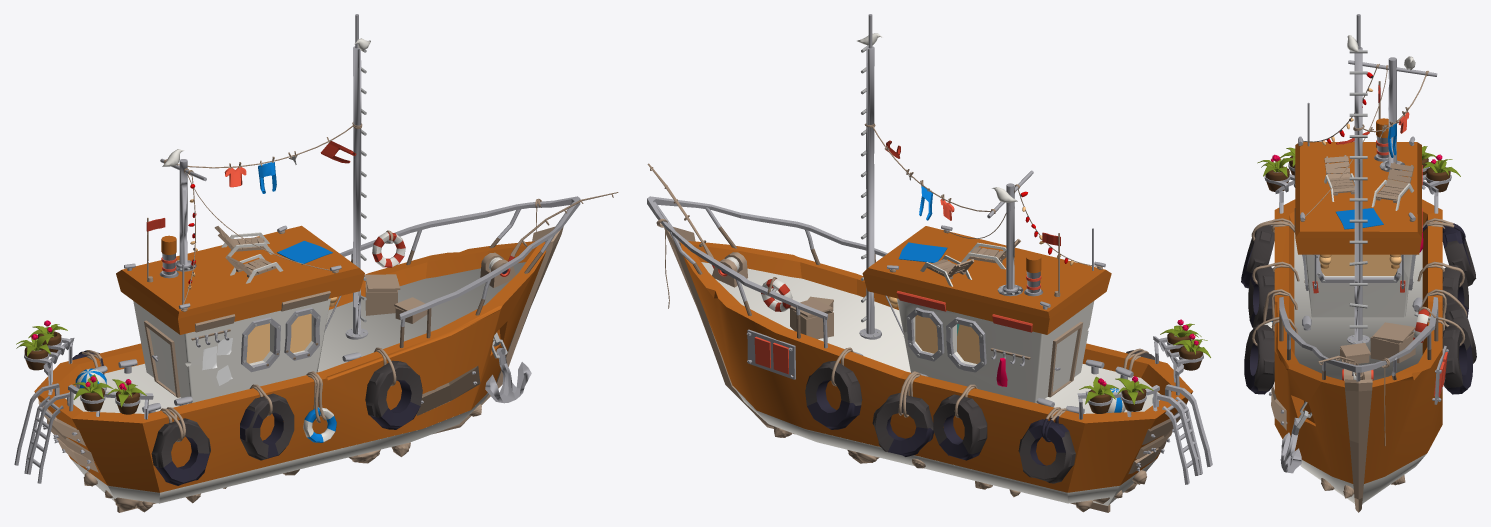
Rendered from ship_boat_1.glb.
3 views of the same model, side by side, from view 1: azimuth 30°, elevation 25°; view 2: azimuth 150°, elevation 25°; view 3: azimuth 270°, elevation 25° (orthographic). The views are drawn at different scales.
Parts seen in each view (by area): view 1: polySurface202_white_0; view 2: polySurface202_white_0; view 3: polySurface202_white_0.
Boxes of the visible parts, x1,y1,x2,y2 form: polySurface202_white_0: (14, 14, 618, 512); polySurface202_white_0: (647, 14, 1212, 512); polySurface202_white_0: (1241, 14, 1476, 512).
Bounding box in the file's own units: 15.16 × 11.01 × 5.25.
1 material, 1 textured.
